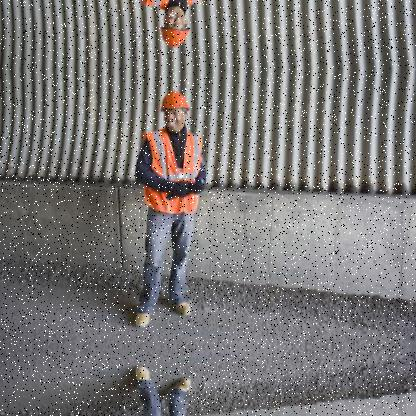Helmet: (145, 82, 200, 137), (154, 2, 196, 51)
